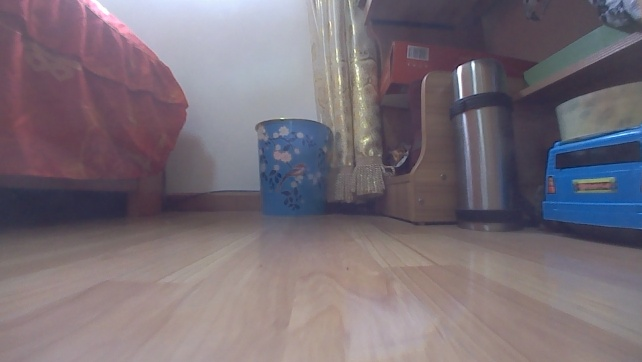bed1: (0, 0, 191, 222)
wire: (194, 186, 261, 197)
